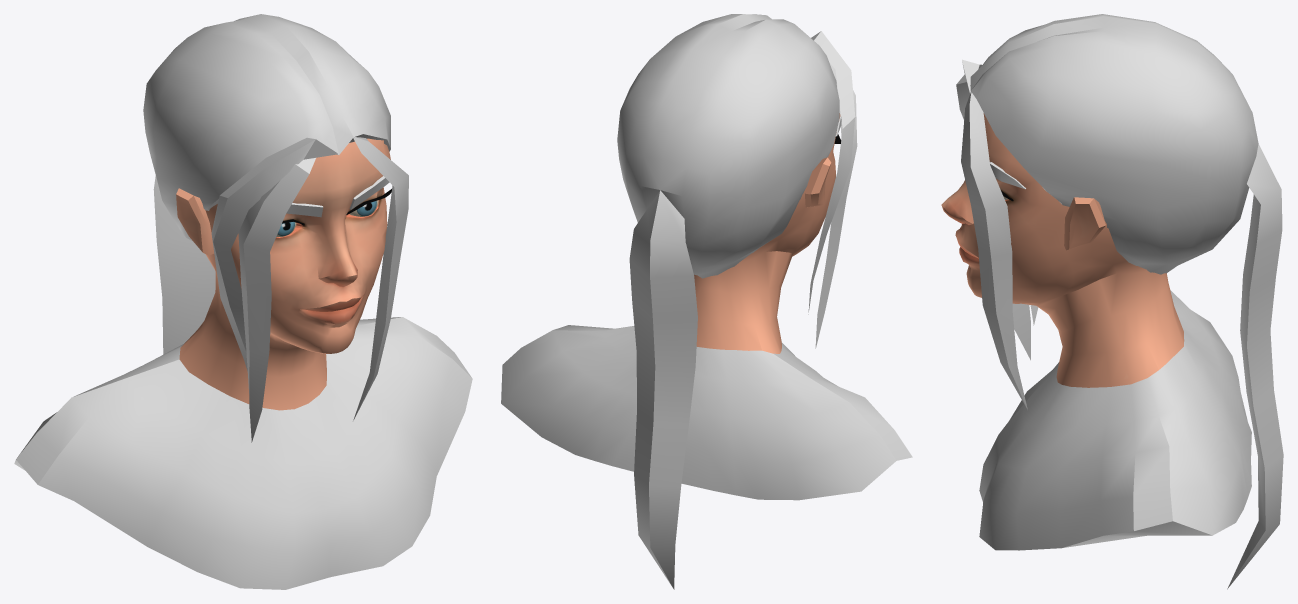
File: Female_Avatar_1_New.fbx
3 renders of one model, left to right at view 1: azimuth 30°, elevation 25°; view 2: azimuth 150°, elevation 25°; view 3: azimuth 270°, elevation 25°, orthographic. The views are drawn at different scales.
Visible parts, largest first — view 1: Shirt.003, Hair, Female Head; view 2: Hair, Shirt.003, Female Head; view 3: Hair, Shirt.003, Female Head.
Part boxes in pixels (x1,y1,x2,y2): Shirt.003: (14,317,472,589); Hair: (143,14,408,442); Female Head: (176,138,390,410); Hair: (617,14,857,589); Shirt.003: (501,325,912,500); Female Head: (694,113,840,353); Hair: (956,14,1283,589); Shirt.003: (979,290,1251,550); Female Head: (941,113,1184,387).
Bounding box in the file's own units: 47.1 × 59.49 × 32.62.
Materials: 1 (1 with a texture image).
